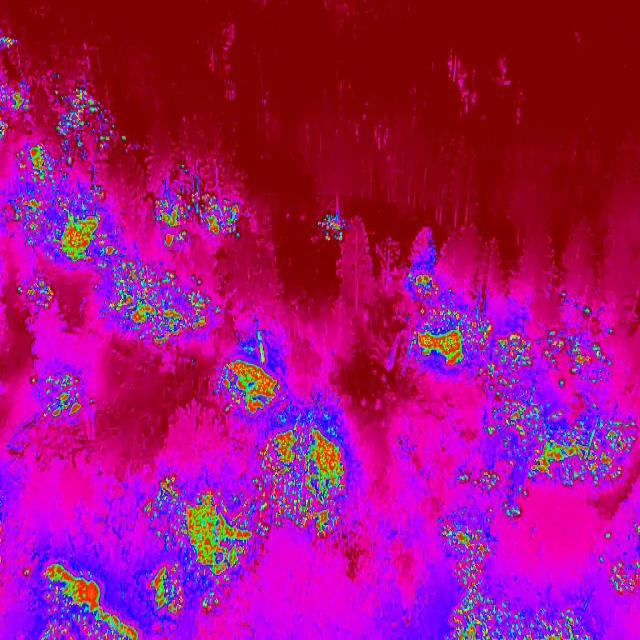fire: (458, 317, 636, 518), (0, 76, 121, 263), (138, 474, 272, 617), (257, 404, 356, 538), (92, 253, 225, 351), (427, 509, 504, 640), (40, 550, 144, 640), (408, 268, 500, 368), (141, 167, 246, 248), (212, 336, 297, 423), (452, 594, 595, 640), (21, 357, 98, 431), (597, 528, 640, 601), (14, 281, 57, 319), (319, 210, 349, 246), (0, 33, 16, 52)
